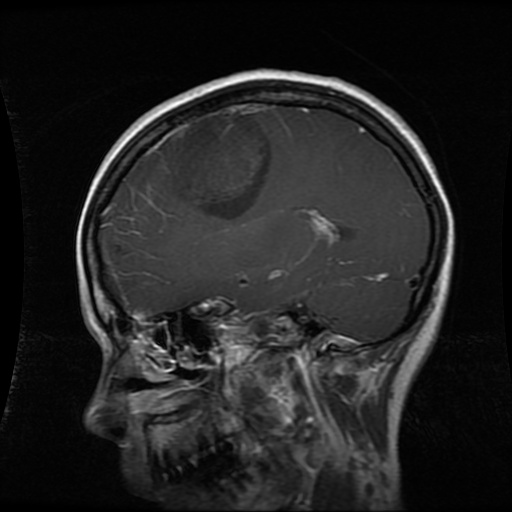glioma: (171, 113, 276, 218)
